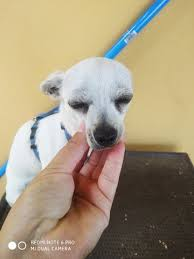chihuahua: (4, 52, 147, 237)
